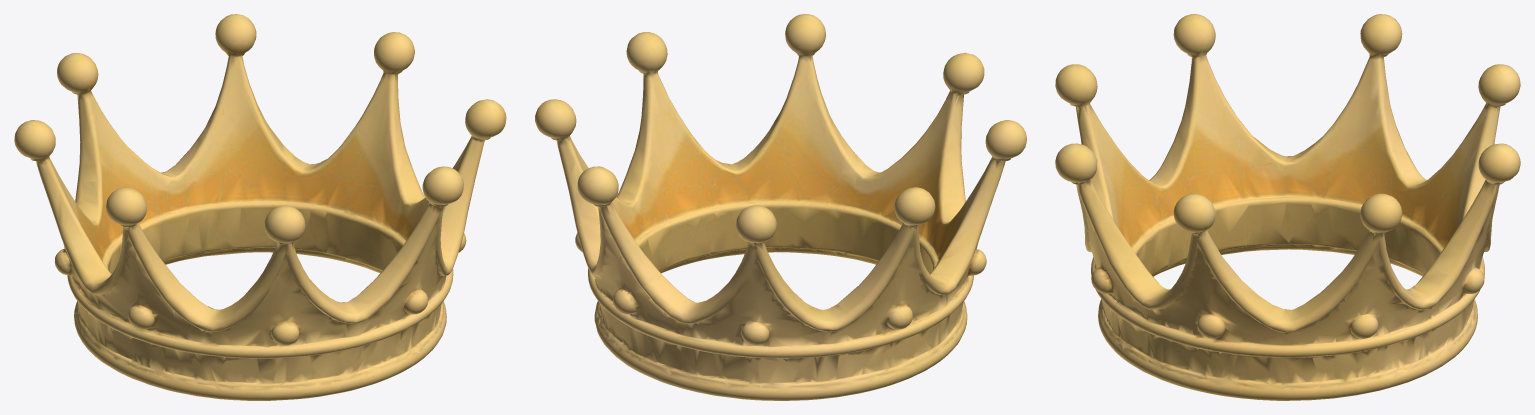
The picture shows the model from 3 angles, left to right: view 1: azimuth 30°, elevation 25°; view 2: azimuth 150°, elevation 25°; view 3: azimuth 270°, elevation 25°; orthographic projection. The views are drawn at different scales.
Size of the model in its own units: 1.9 by 0.9834 by 1.9.
Materials: 1 (1 with a texture image).
